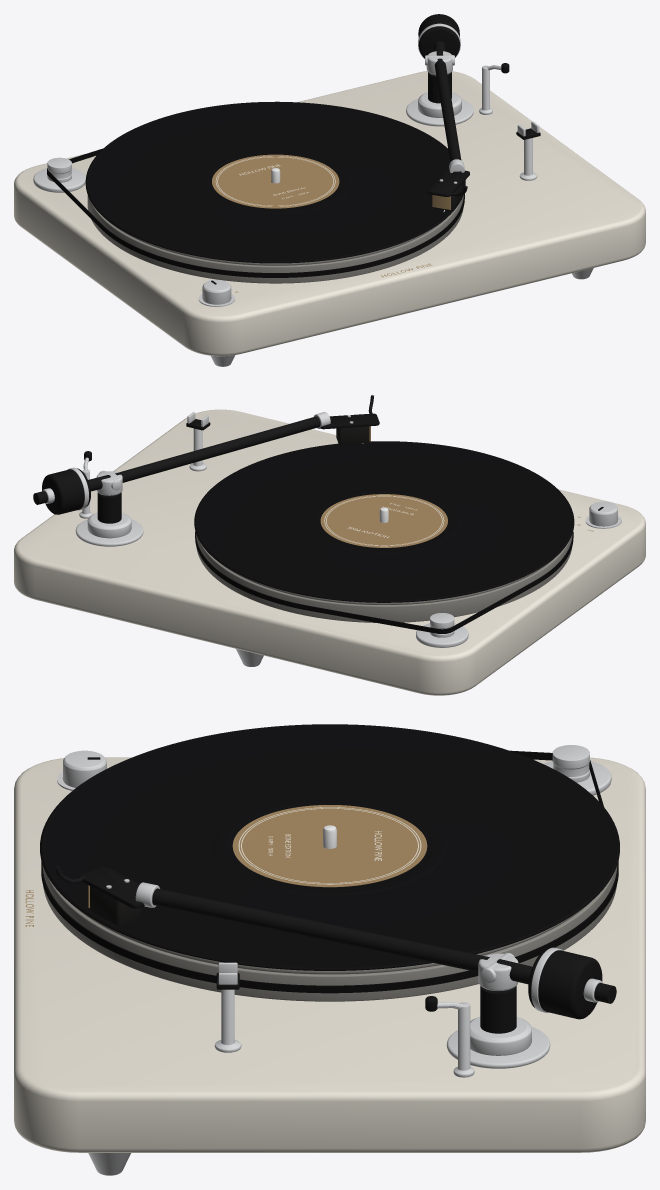
File: Bone_Edition.glb
The picture shows the model from 3 angles, top to bottom: view 1: azimuth 30°, elevation 25°; view 2: azimuth 150°, elevation 25°; view 3: azimuth 270°, elevation 25°; orthographic projection. The views are drawn at different scales.
Parts seen in each view (by area): view 1: Body, Record, Platter, Record_Label, Tonearm, Knob_Speed, Record_LabelMark; view 2: Body, Record, Tonearm, Platter, Record_Label, Knob_Speed, Record_LabelMark; view 3: Body, Record, Tonearm, Record_Label, Platter, Record_LabelMark, Knob_Speed.
Part boxes in pixels (bbox=[...]): Body: bbox=[14, 63, 645, 366]; Record: bbox=[85, 101, 465, 263]; Platter: bbox=[87, 168, 463, 283]; Record_Label: bbox=[212, 154, 339, 208]; Tonearm: bbox=[418, 14, 469, 212]; Knob_Speed: bbox=[202, 279, 231, 304]; Record_LabelMark: bbox=[215, 156, 335, 206]; Body: bbox=[14, 409, 645, 695]; Record: bbox=[194, 441, 574, 602]; Tonearm: bbox=[33, 395, 379, 514]; Platter: bbox=[196, 507, 572, 622]; Record_Label: bbox=[320, 494, 447, 547]; Knob_Speed: bbox=[589, 501, 617, 526]; Record_LabelMark: bbox=[324, 495, 444, 546]; Body: bbox=[14, 745, 645, 1175]; Record: bbox=[40, 724, 619, 970]; Tonearm: bbox=[55, 866, 616, 1019]; Record_Label: bbox=[232, 805, 427, 887]; Platter: bbox=[42, 825, 617, 1001]; Record_LabelMark: bbox=[238, 807, 421, 884]; Knob_Speed: bbox=[63, 750, 106, 787].
Size of the model in its own units: 0.42 by 0.128 by 0.33.
